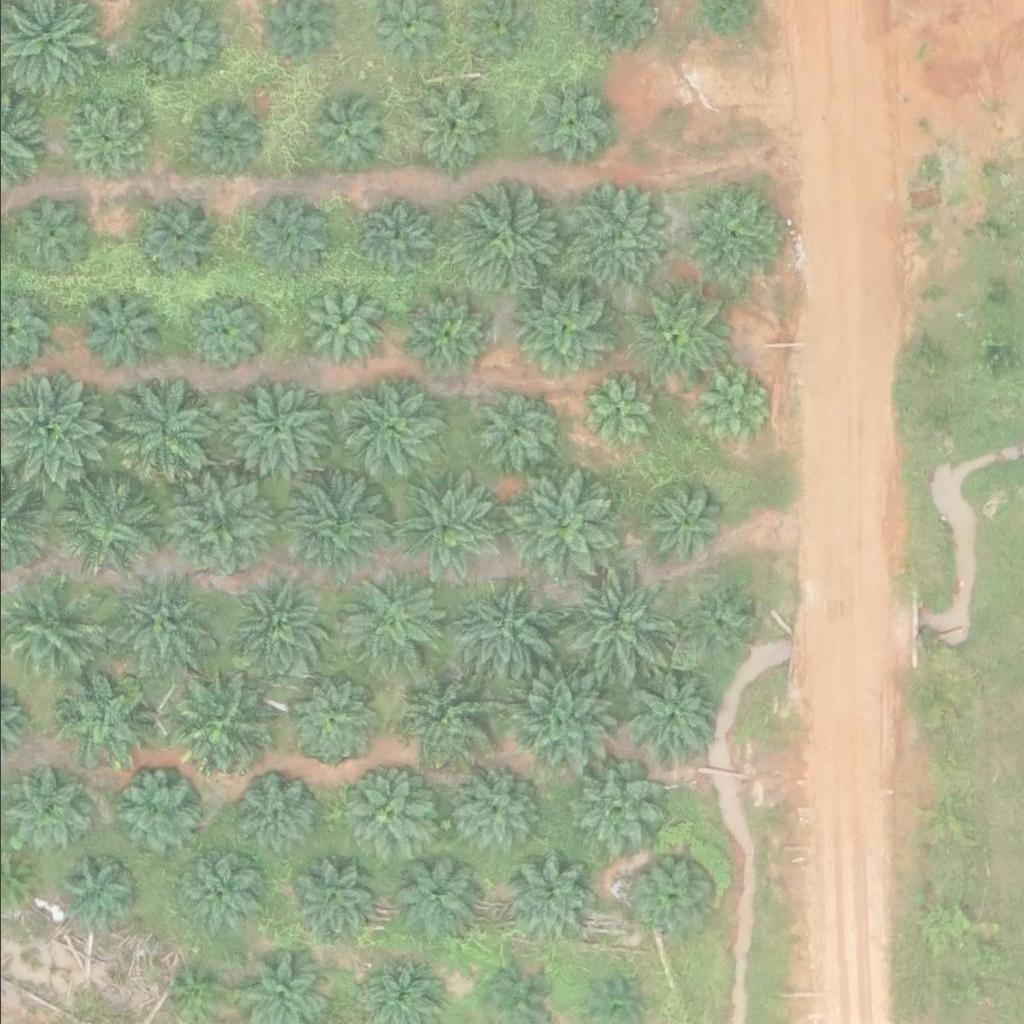Kelapa_Sawit: (560, 570, 685, 695), (554, 185, 668, 298), (447, 191, 561, 304), (508, 472, 621, 585), (389, 477, 502, 590), (280, 471, 393, 584), (161, 471, 275, 583), (103, 374, 217, 486), (680, 186, 781, 286), (629, 284, 730, 384), (454, 585, 555, 685), (339, 575, 440, 675), (218, 575, 319, 675), (508, 673, 609, 773), (392, 665, 493, 765), (169, 679, 270, 779), (48, 674, 149, 774), (510, 284, 610, 384), (343, 381, 443, 481), (229, 384, 329, 484), (108, 578, 208, 678), (57, 474, 157, 574), (132, 1, 221, 89), (342, 771, 431, 859), (623, 674, 711, 762), (288, 675, 376, 763), (231, 771, 319, 859), (111, 770, 199, 858), (6, 768, 94, 856), (61, 97, 149, 185), (636, 481, 725, 568), (684, 369, 772, 456), (72, 286, 160, 373), (178, 292, 266, 379), (133, 201, 221, 288), (569, 765, 657, 852), (444, 767, 532, 854), (502, 855, 590, 942), (389, 853, 477, 940), (287, 853, 375, 940), (169, 847, 257, 934), (411, 90, 487, 165), (635, 860, 711, 935), (531, 85, 607, 160), (358, 205, 434, 280), (244, 203, 320, 278), (405, 297, 481, 372), (301, 292, 377, 367), (472, 399, 548, 474), (580, 374, 655, 449), (184, 96, 259, 171), (312, 98, 387, 173), (57, 856, 132, 931), (10, 198, 85, 273), (685, 594, 748, 656), (164, 967, 215, 1017)
